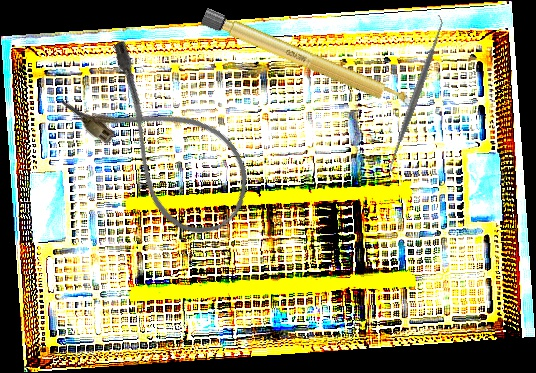Cannula: (54, 33, 271, 253)
Scalpel Handle: (200, 7, 415, 113)
Spatula Surgical: (379, 13, 453, 175)
